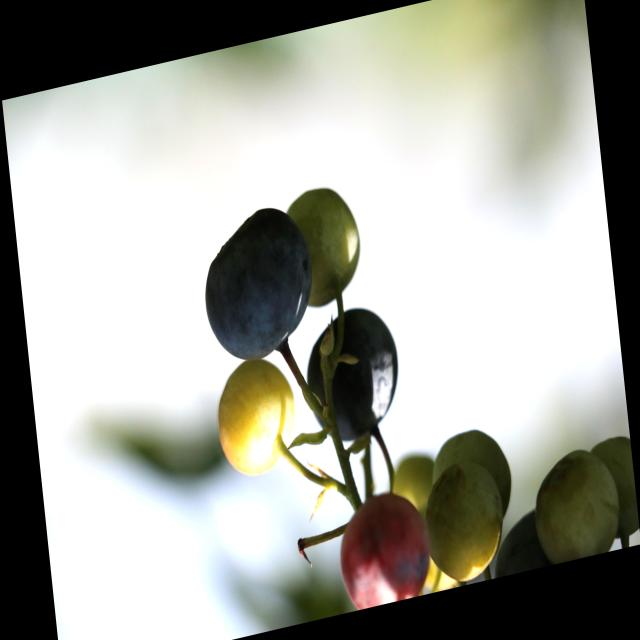blueberry: (194, 196, 324, 377), (298, 293, 408, 455)
blueberry-halfripe: (333, 483, 433, 613)
blueberry-unripe: (210, 347, 302, 486), (526, 439, 623, 568), (281, 180, 368, 312), (424, 462, 511, 588)
